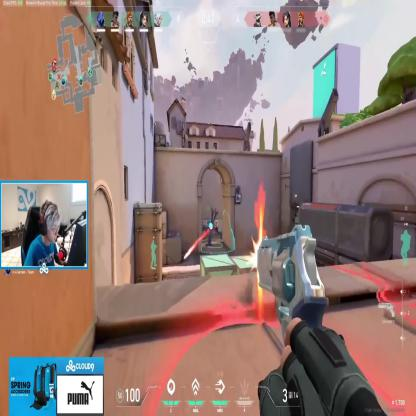enemy: (206, 220, 211, 237), (215, 220, 218, 234)
enemy_head: (207, 221, 209, 224), (216, 220, 217, 224)
